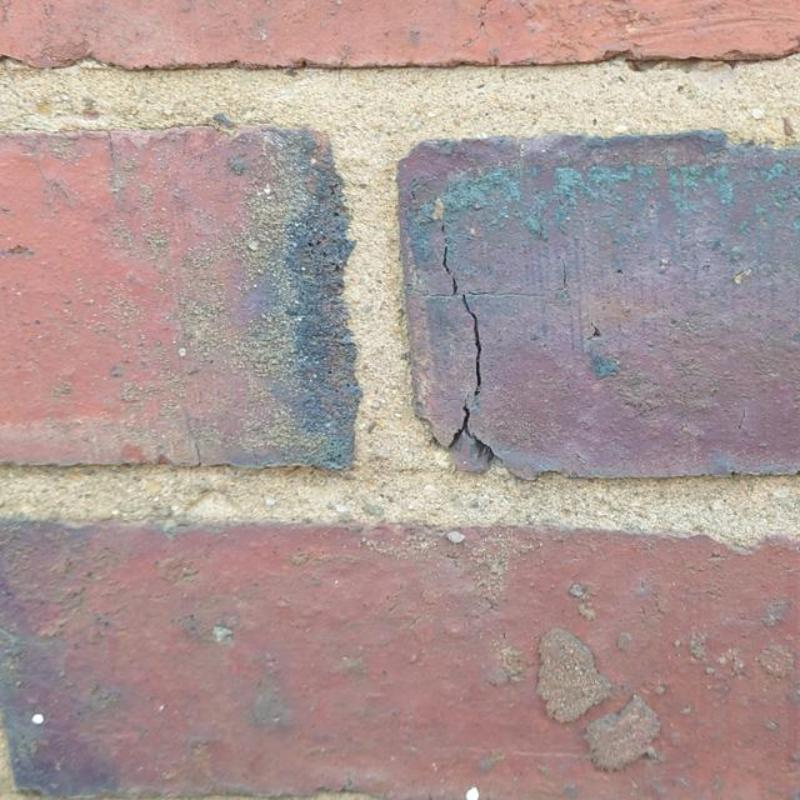crack: (448, 396, 495, 462), (462, 295, 482, 393), (441, 223, 458, 294), (424, 291, 544, 298)
